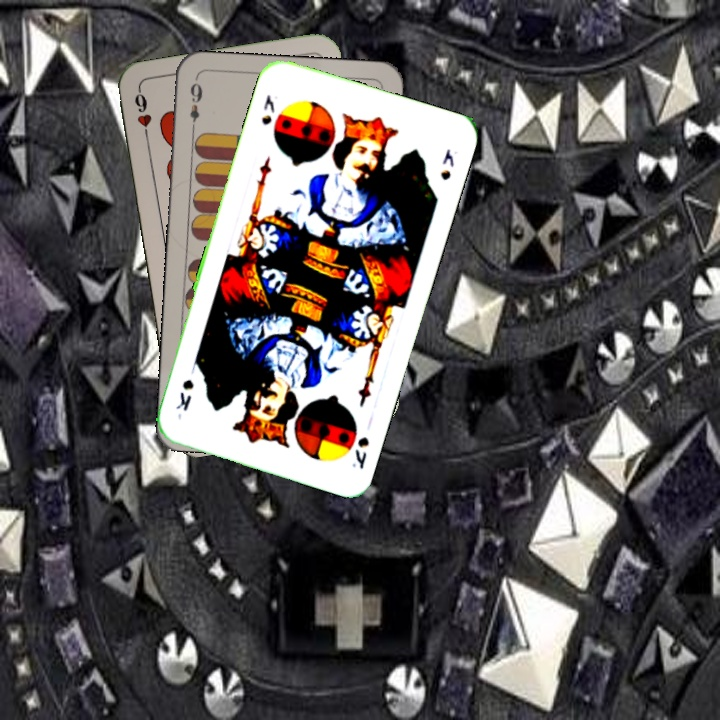E9: (185, 79, 205, 135)
H9: (130, 86, 154, 145)
SK: (348, 432, 372, 472), (257, 90, 277, 128)
